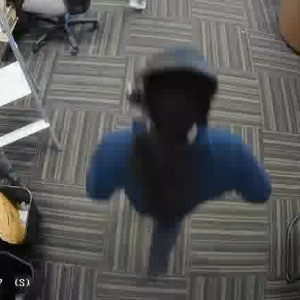person: (97, 30, 229, 255)
